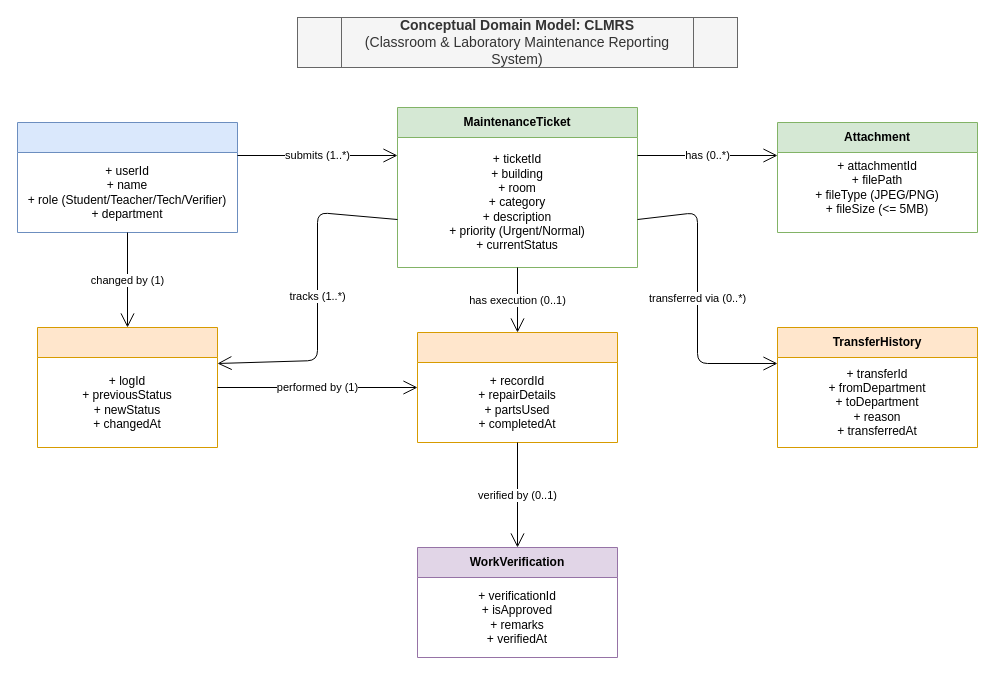
The diagram is 995 pixels wide and 675 high, and some of its shapes have lost their labels. The shapes that lost their labels are listed below. From the top down, each one's box as (x1, y1, x2, y2) in pixels, then its label:
(16, 122, 238, 232): UserAccount
(36, 326, 218, 448): TicketStatusLog
(416, 332, 618, 442): ExecutionRecord
